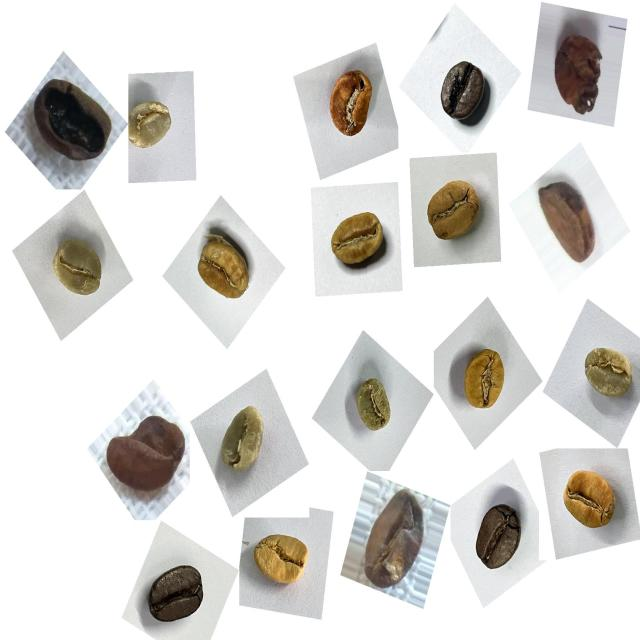bad: (22, 67, 118, 177), (98, 405, 192, 513), (352, 486, 436, 598), (542, 20, 614, 125), (528, 170, 602, 270)
dark: (138, 554, 216, 640), (467, 494, 532, 584), (430, 48, 499, 132)
green: (42, 226, 114, 314), (210, 396, 276, 486), (574, 337, 640, 411), (120, 86, 182, 160), (344, 370, 404, 445)
light: (186, 219, 258, 312), (318, 200, 394, 286), (417, 167, 490, 256), (552, 457, 624, 544), (318, 60, 383, 150), (245, 523, 316, 600), (451, 338, 516, 421)
